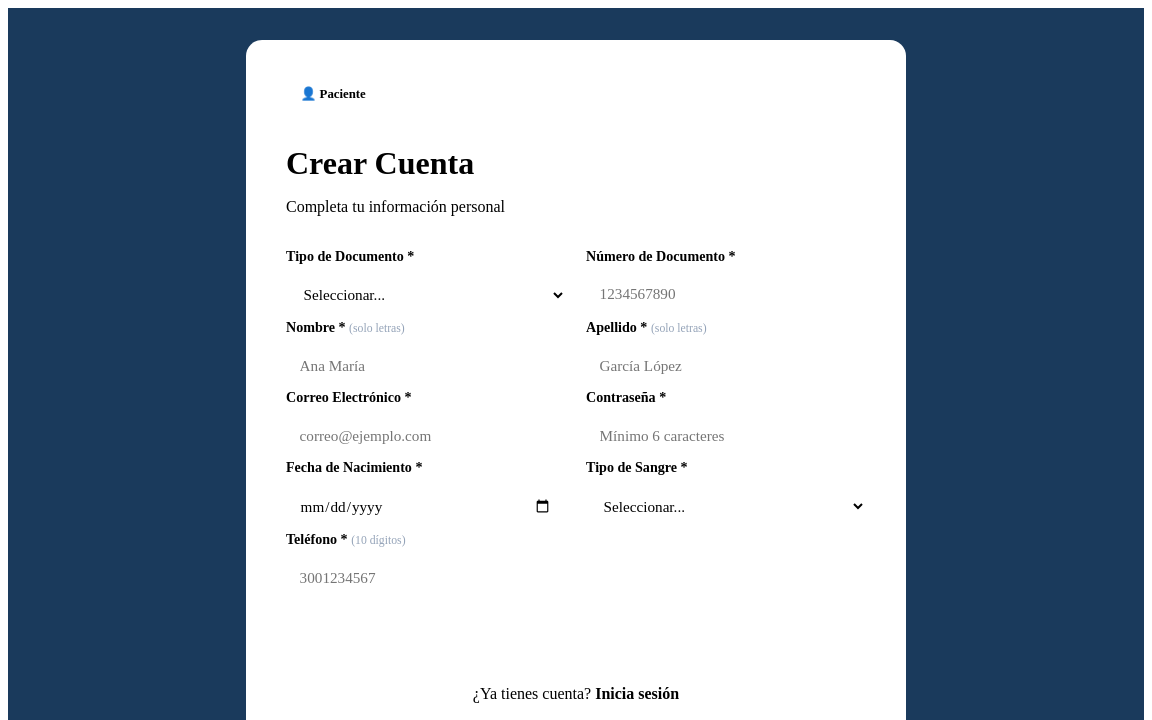
Test case: RegistroPage — comportamiento de los campos › el campo de nombre solo acepta letras
In the field with placeholder "Ana María": (426, 366) [286,346,566,385], type "Ana123"
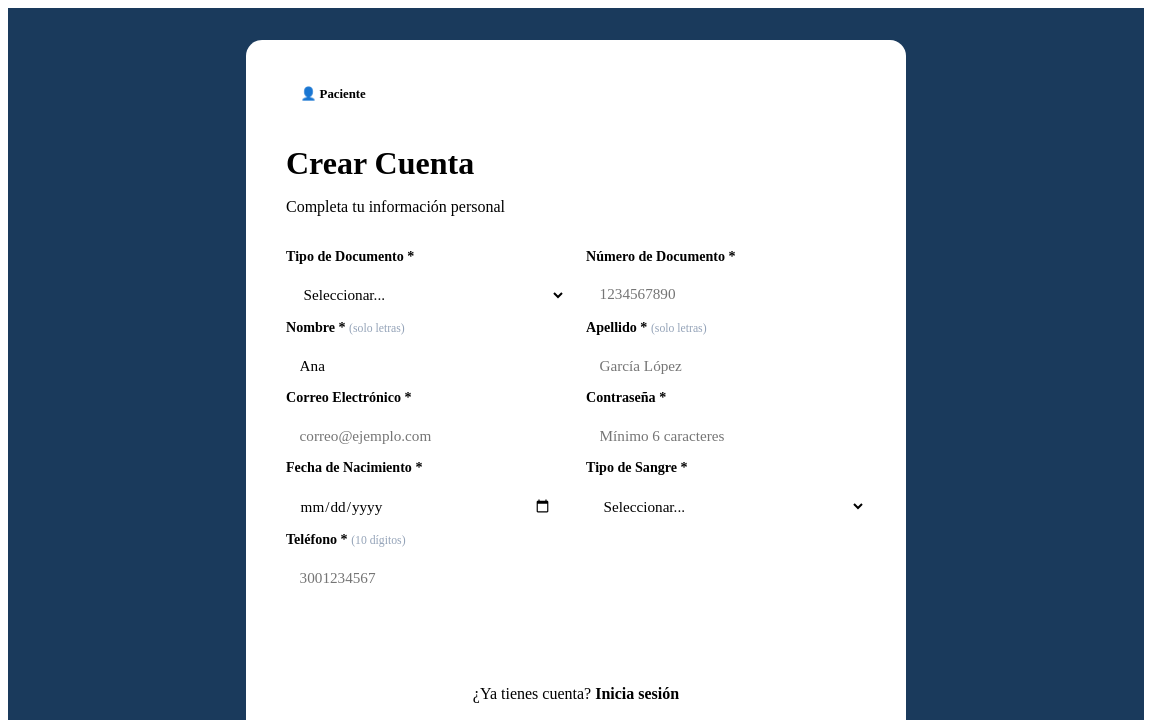
Now the field with placeholder "Ana María" holds "Ana", box [286,346,566,385]
